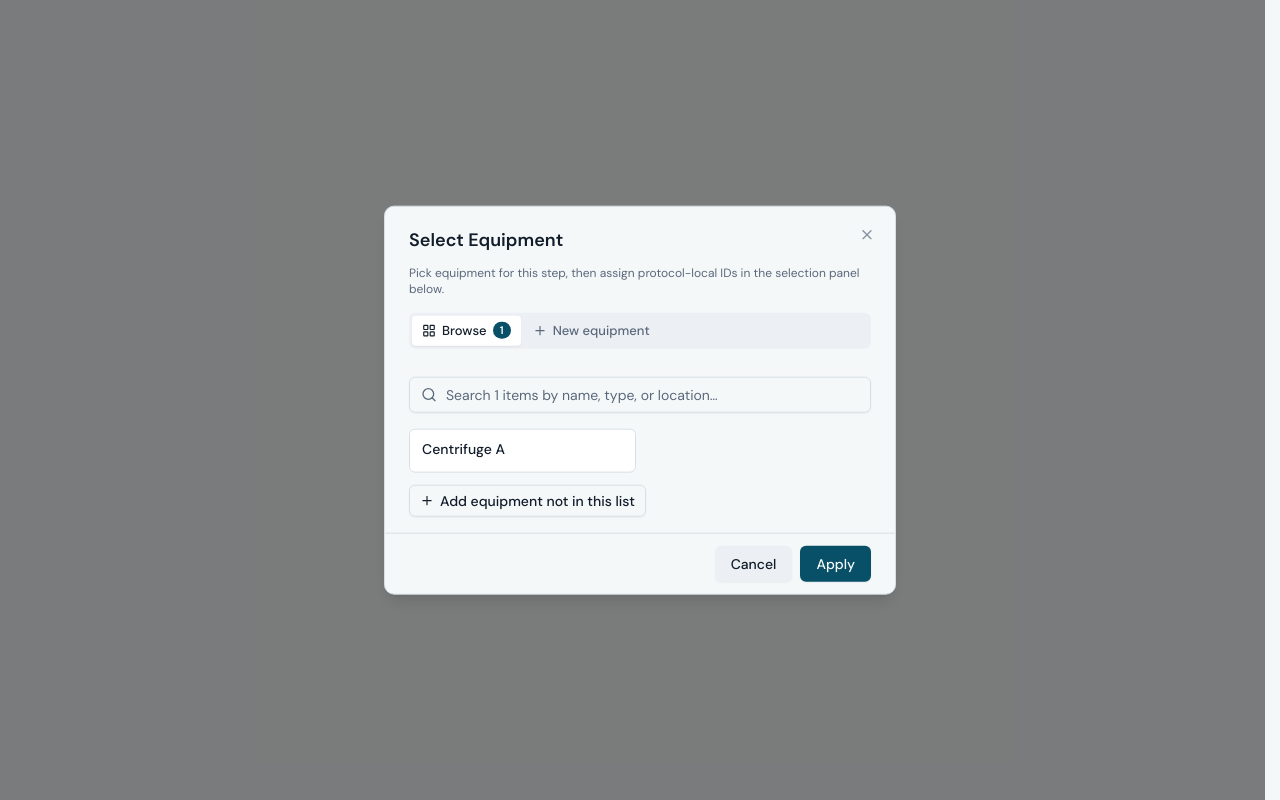
Test: EquipmentPickerModal selection dock › removing a selection from the dock clears the card and hides the dock
The width and height of the screenshot is (1280, 800).
Click the button with class "equipment-item": click(522, 450) [409,428,636,472]
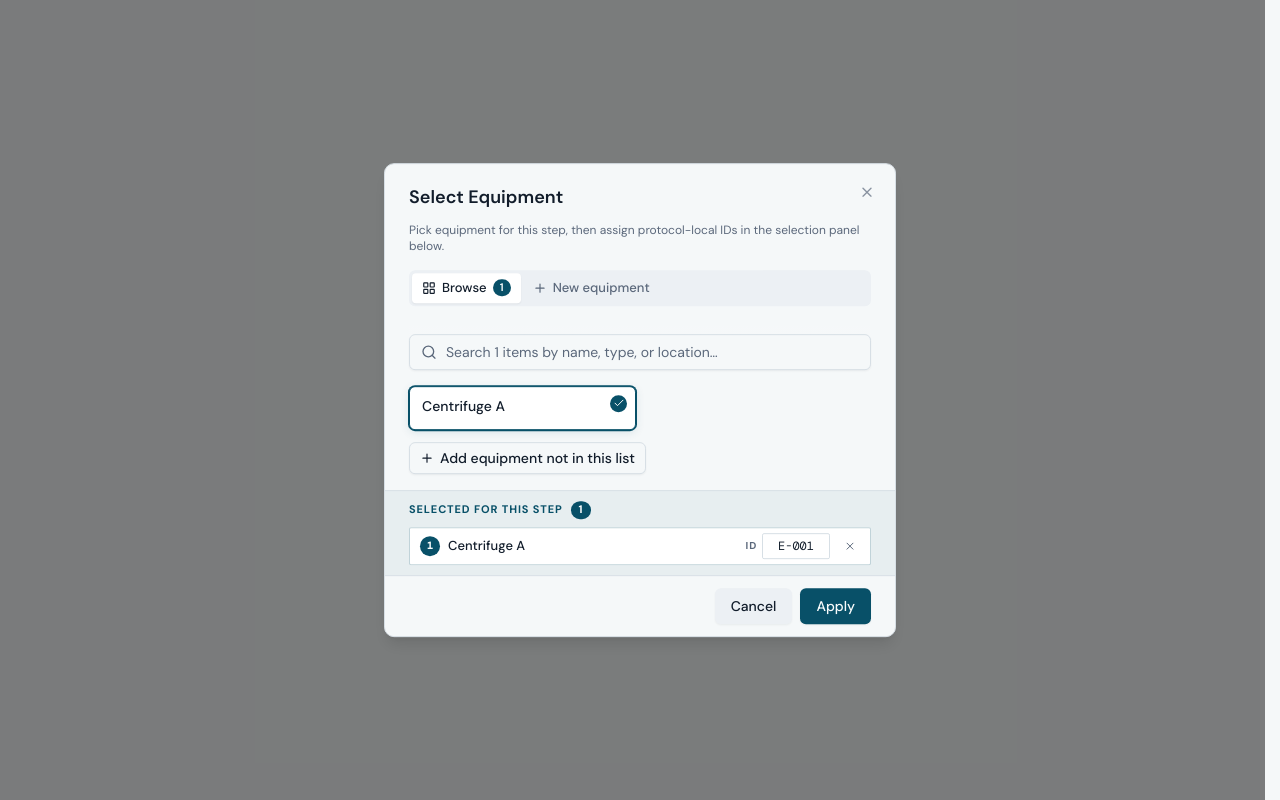
Expected: the button with class "dock-remove" is shown
Click the button with class "dock-remove": click(850, 546) [838,534,862,558]
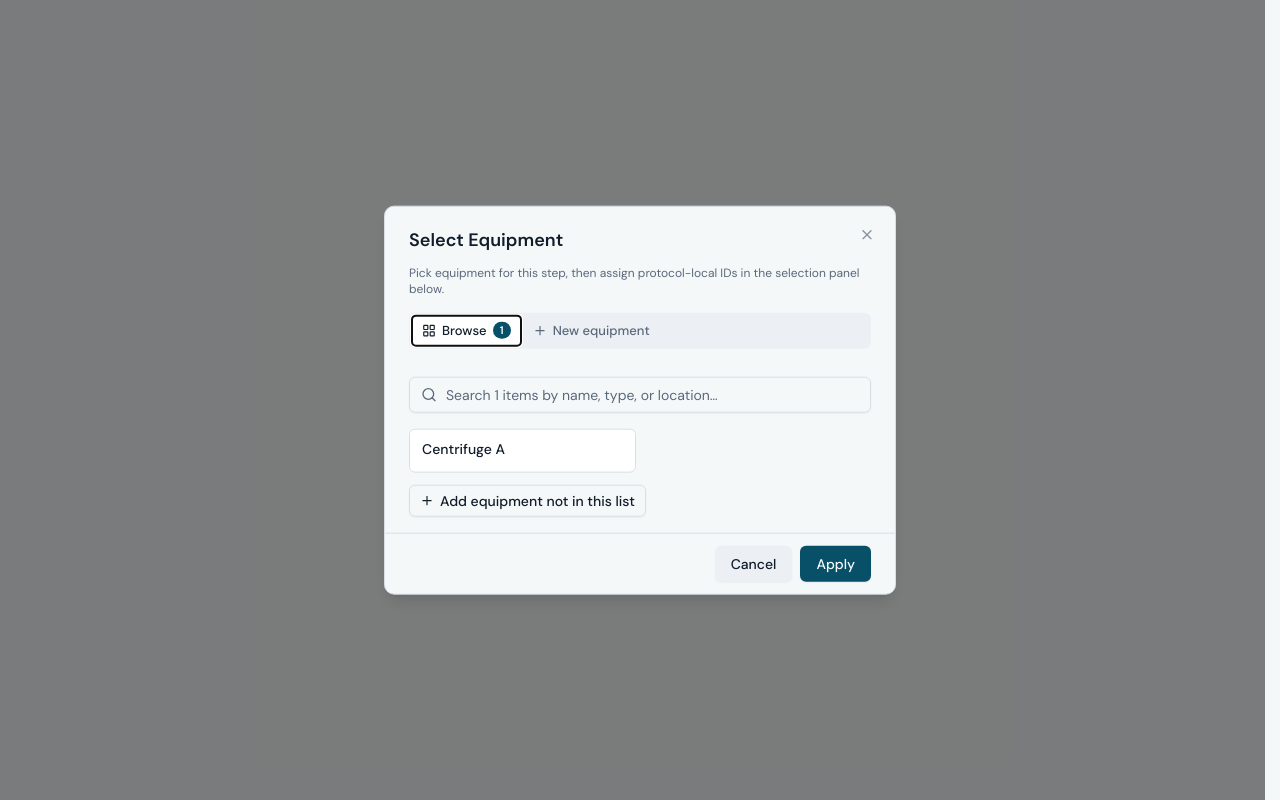
Expected: the element with class "dock" is gone
